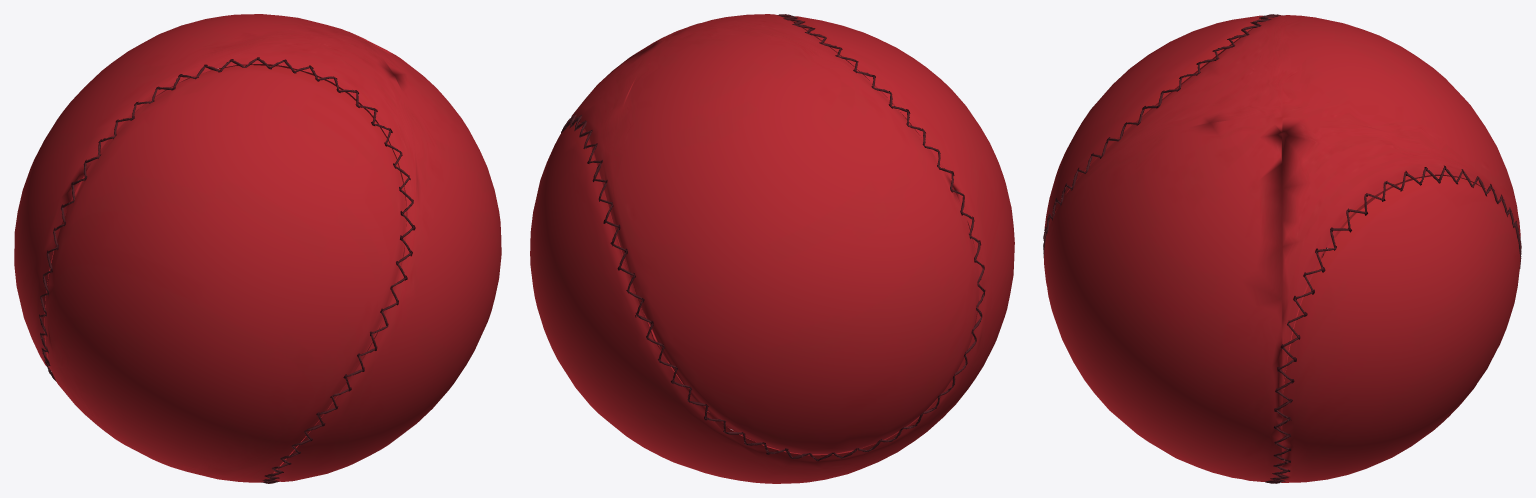
Rendered from jug-red-ball-mobile.glb.
The picture shows the model from 3 angles, left to right: view 1: azimuth 30°, elevation 25°; view 2: azimuth 150°, elevation 25°; view 3: azimuth 270°, elevation 25°; orthographic projection.
Parts seen in each view (by area): view 1: JUG red leather ball - 60mm; view 2: JUG red leather ball - 60mm; view 3: JUG red leather ball - 60mm.
Part boxes in pixels (x1,y1,x2,y2): JUG red leather ball - 60mm: [14, 14, 501, 483]; JUG red leather ball - 60mm: [530, 14, 1014, 483]; JUG red leather ball - 60mm: [1043, 14, 1521, 483].
Size of the model in its own units: 0.06 by 0.0571 by 0.0588.
Materials: 4 (1 with a texture image).
